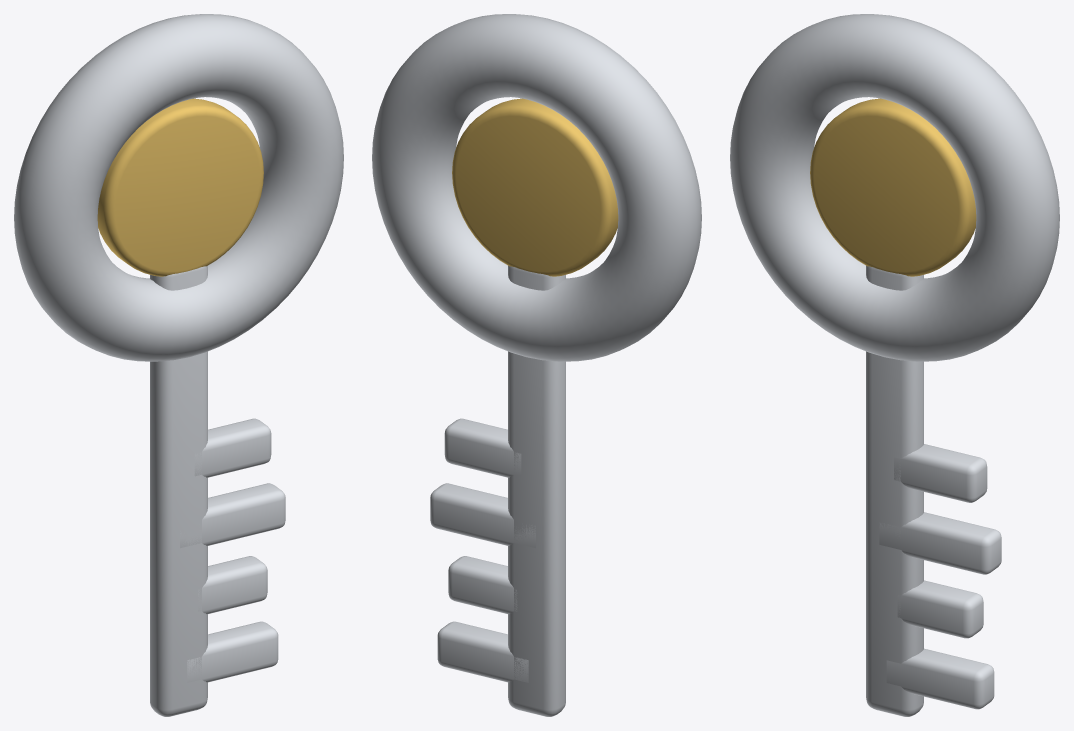
Rendered from key.glb.
The picture shows the model from 3 angles, left to right: view 1: azimuth 30°, elevation 25°; view 2: azimuth 150°, elevation 25°; view 3: azimuth 330°, elevation 25°; orthographic projection.
Parts seen in each view (by area): view 1: bow, inlay, blade, teeth.002, teeth, teeth.003, teeth.001; view 2: bow, inlay, blade, teeth.002, teeth, teeth.003, teeth.001; view 3: bow, inlay, blade, teeth.002, teeth, teeth.003, teeth.001.
Boxes of the visible parts, left/top/right/bottom form: bow: left=14, top=14, right=343, bottom=361; inlay: left=97, top=98, right=263, bottom=276; blade: left=150, top=265, right=207, bottom=716; teeth.002: left=180, top=483, right=285, bottom=548; teeth: left=187, top=621, right=278, bottom=682; teeth.003: left=194, top=418, right=271, bottom=477; teeth.001: left=198, top=556, right=267, bottom=613; bow: left=372, top=14, right=701, bottom=361; inlay: left=452, top=98, right=618, bottom=276; blade: left=508, top=265, right=565, bottom=716; teeth.002: left=430, top=483, right=535, bottom=548; teeth: left=437, top=621, right=528, bottom=682; teeth.003: left=444, top=418, right=521, bottom=477; teeth.001: left=448, top=556, right=517, bottom=613; bow: left=730, top=14, right=1059, bottom=361; inlay: left=810, top=98, right=976, bottom=276; blade: left=866, top=265, right=923, bottom=716; teeth.002: left=879, top=512, right=1001, bottom=574; teeth: left=886, top=648, right=994, bottom=709; teeth.003: left=894, top=444, right=987, bottom=502; teeth.001: left=897, top=580, right=983, bottom=638.
Size of the model in its own units: 0.44 by 0.91 by 0.1.
